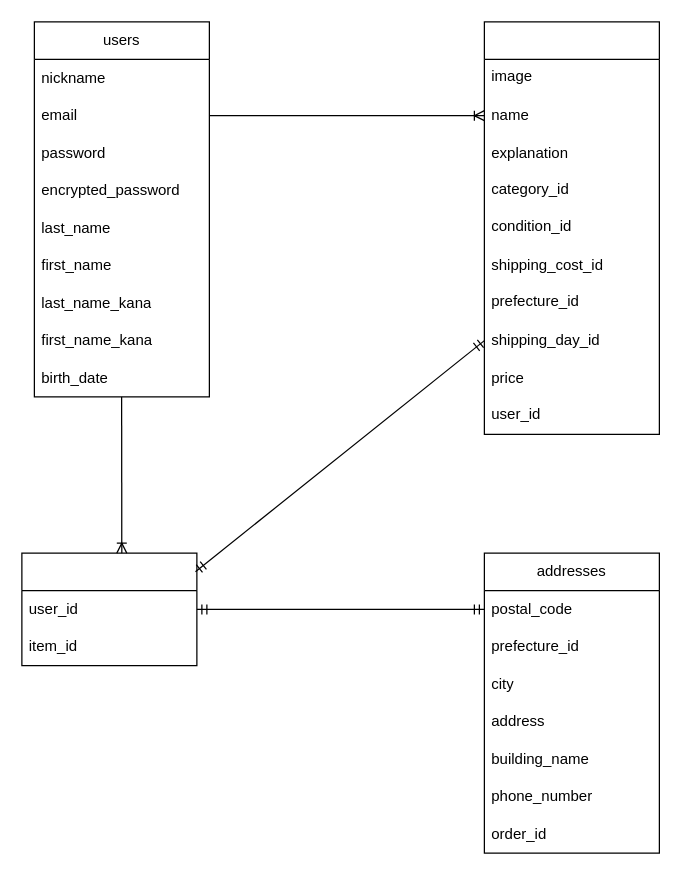
The diagram is 681 pixels wide and 875 high, and some of its shapes have lost their labels. The shapes that lost their labels are listed below. From the top down, each one's box as (x1, y1, x2, y2) in pixels, then its label:
(483, 21, 659, 434): items
(21, 552, 197, 666): orders
